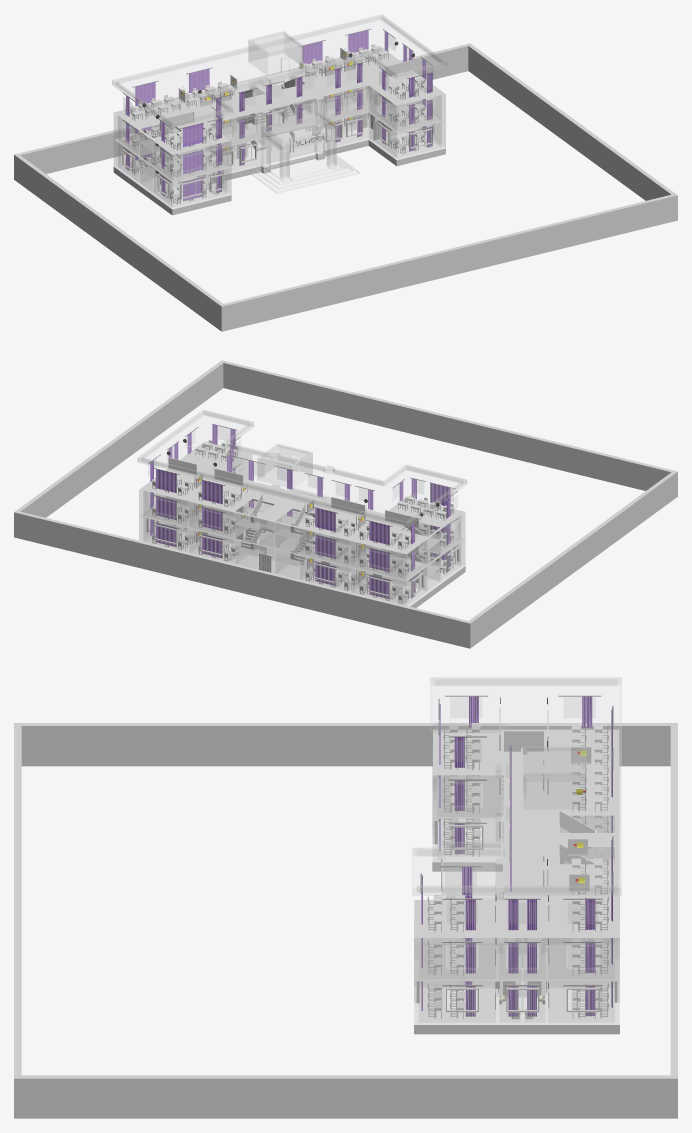
Rendered from school.glb.
3 renders of one model, top to bottom at view 1: azimuth 30°, elevation 25°; view 2: azimuth 150°, elevation 25°; view 3: azimuth 270°, elevation 25°, orthographic. The views are drawn at different scales.
Parts seen in each view (by area): view 1: Boundary, Top, 2nd.002, 2nd, Curtains, 1st, Window_Glasses, Base, Classroom_board.002, Cube.066, 1st.001, Doors; view 2: Boundary, Top, 2nd.002, 2nd, Curtains, 1st, Window_Glasses, Classroom_board.002, Stais_support.003, Cube.066; view 3: Boundary, Top, 2nd.002, 2nd, 1st, Curtains, Window_Glasses, Base, Classroom_board.002, Cube.066, Stais_support.003.
Boxes of the visible parts, <box> form: Boundary: <box>14,43,677,331</box>; Top: <box>112,14,447,193</box>; 2nd.002: <box>114,48,444,181</box>; 2nd: <box>114,71,445,181</box>; Curtains: <box>123,28,433,201</box>; 1st: <box>114,104,445,208</box>; Window_Glasses: <box>123,35,432,197</box>; Base: <box>113,140,445,215</box>; Classroom_board.002: <box>142,41,414,129</box>; Cube.066: <box>122,118,434,199</box>; 1st.001: <box>266,126,316,163</box>; Doors: <box>197,113,383,178</box>; Boundary: <box>14,360,677,648</box>; Top: <box>137,409,466,527</box>; 2nd.002: <box>140,444,464,581</box>; 2nd: <box>139,455,465,581</box>; Curtains: <box>148,423,457,598</box>; 1st: <box>139,516,465,606</box>; Window_Glasses: <box>148,426,457,594</box>; Classroom_board.002: <box>167,439,439,528</box>; Stais_support.003: <box>235,493,306,566</box>; Cube.066: <box>146,518,459,596</box>; Boundary: <box>14,723,677,1118</box>; Top: <box>412,677,621,899</box>; 2nd.002: <box>414,729,619,981</box>; 2nd: <box>414,731,619,980</box>; 1st: <box>414,801,619,1024</box>; Curtains: <box>420,695,613,1016</box>; Window_Glasses: <box>445,697,597,1009</box>; Base: <box>414,862,619,1034</box>; Classroom_board.002: <box>495,697,593,922</box>; Cube.066: <box>416,818,617,1012</box>; Stais_support.003: <box>559,811,614,864</box>.
Size of the model in its own units: 61.23 by 14.21 by 48.31.
9 materials, 4 textured.
